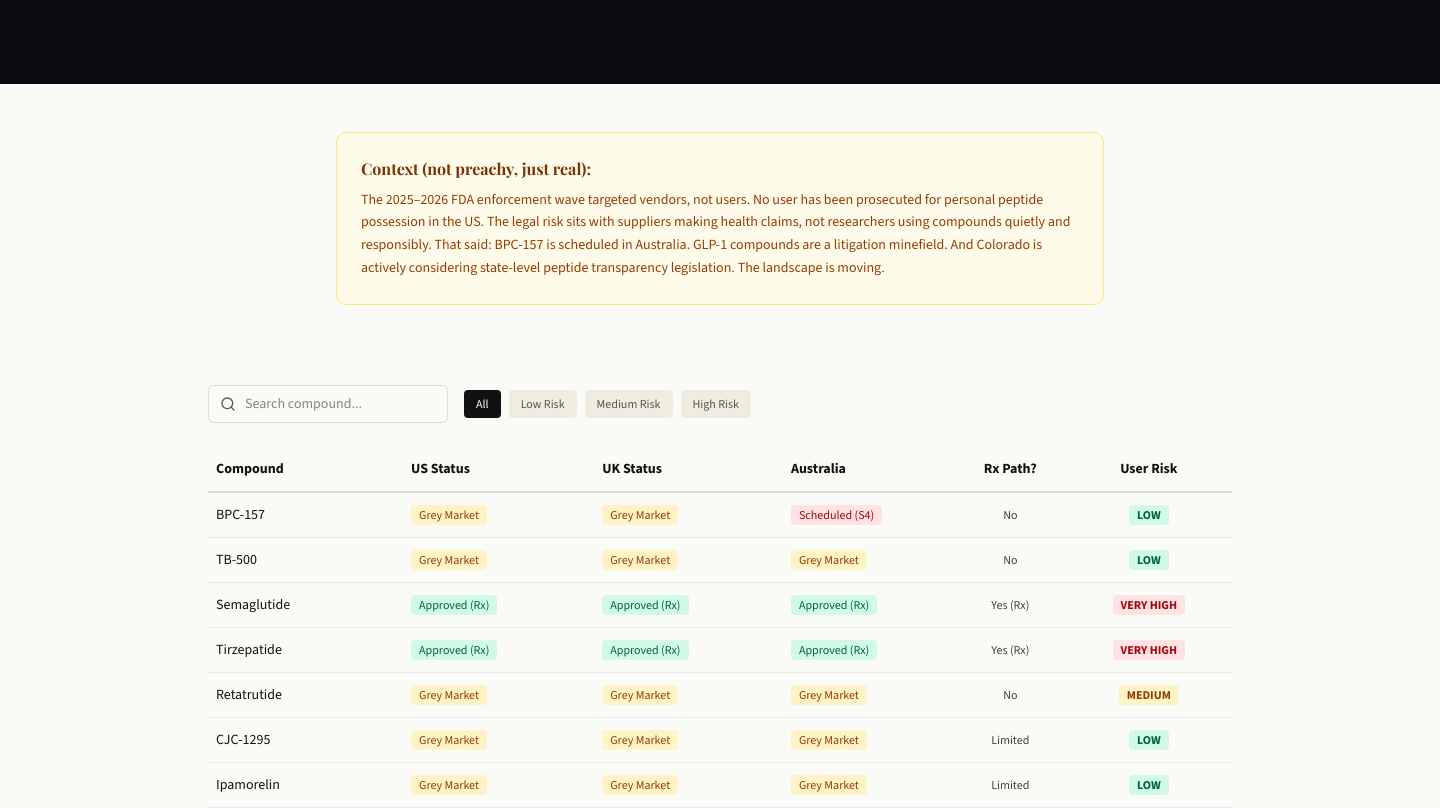
Test: /whats-legal › filters by risk and by search, and says when nothing matches
(page scrolled)
Click the button "high risk" at (716, 404), box [680,390,751,418]
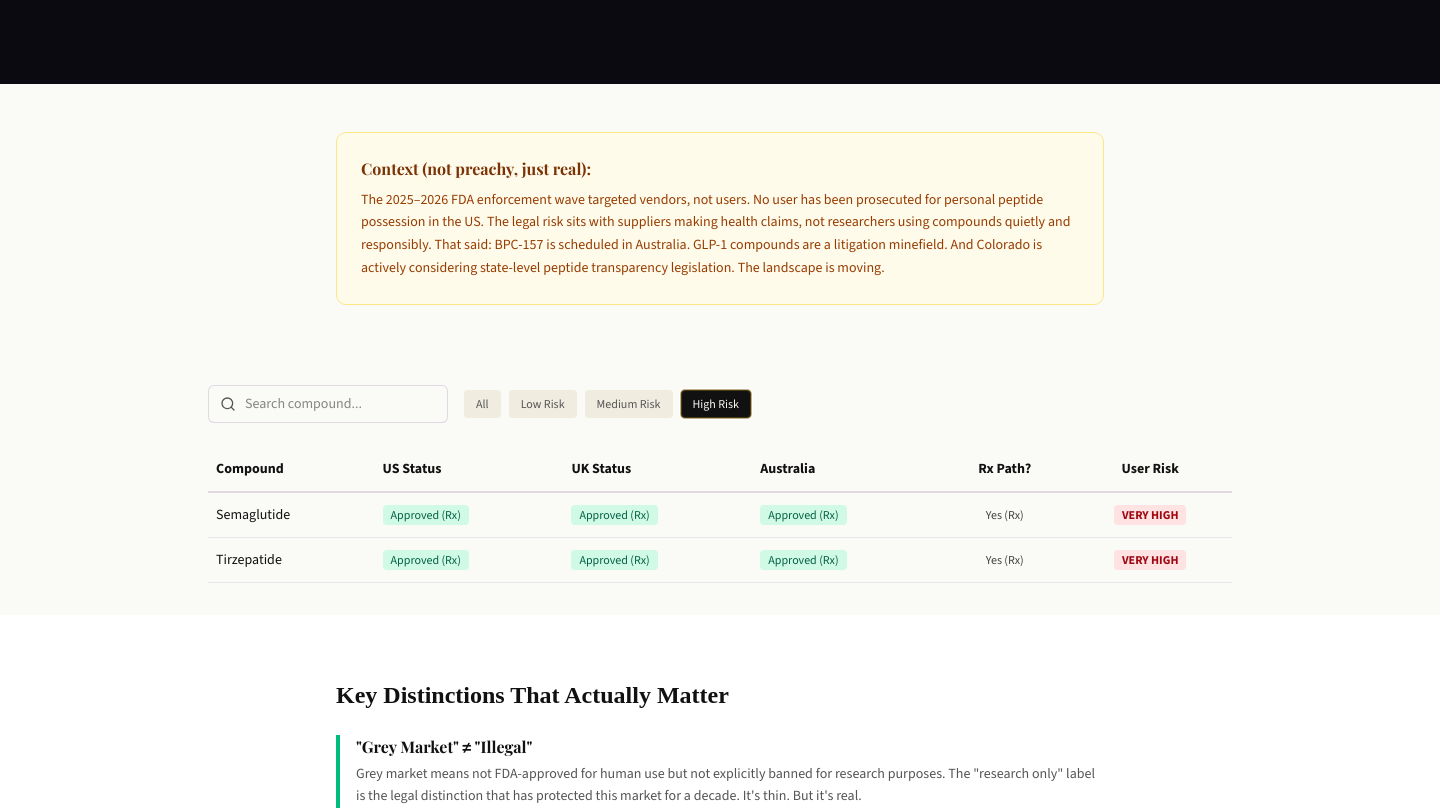
Expected: the text "BPC-157" is not shown
Click the button "All" at (482, 404), box [464,390,501,418]
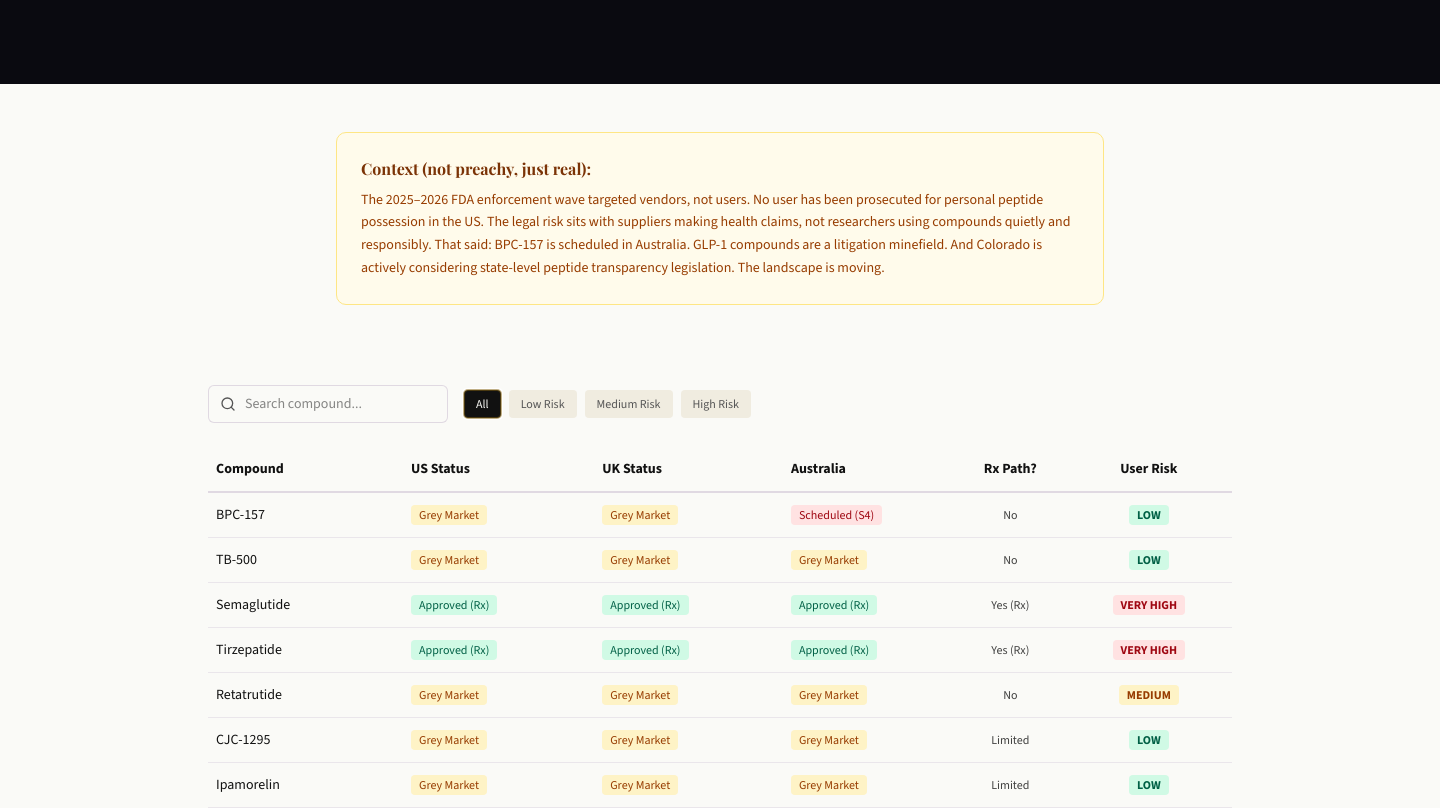
Type "sema" into the field with placeholder "Search compound..." at (328, 404), box [208,384,448,422]
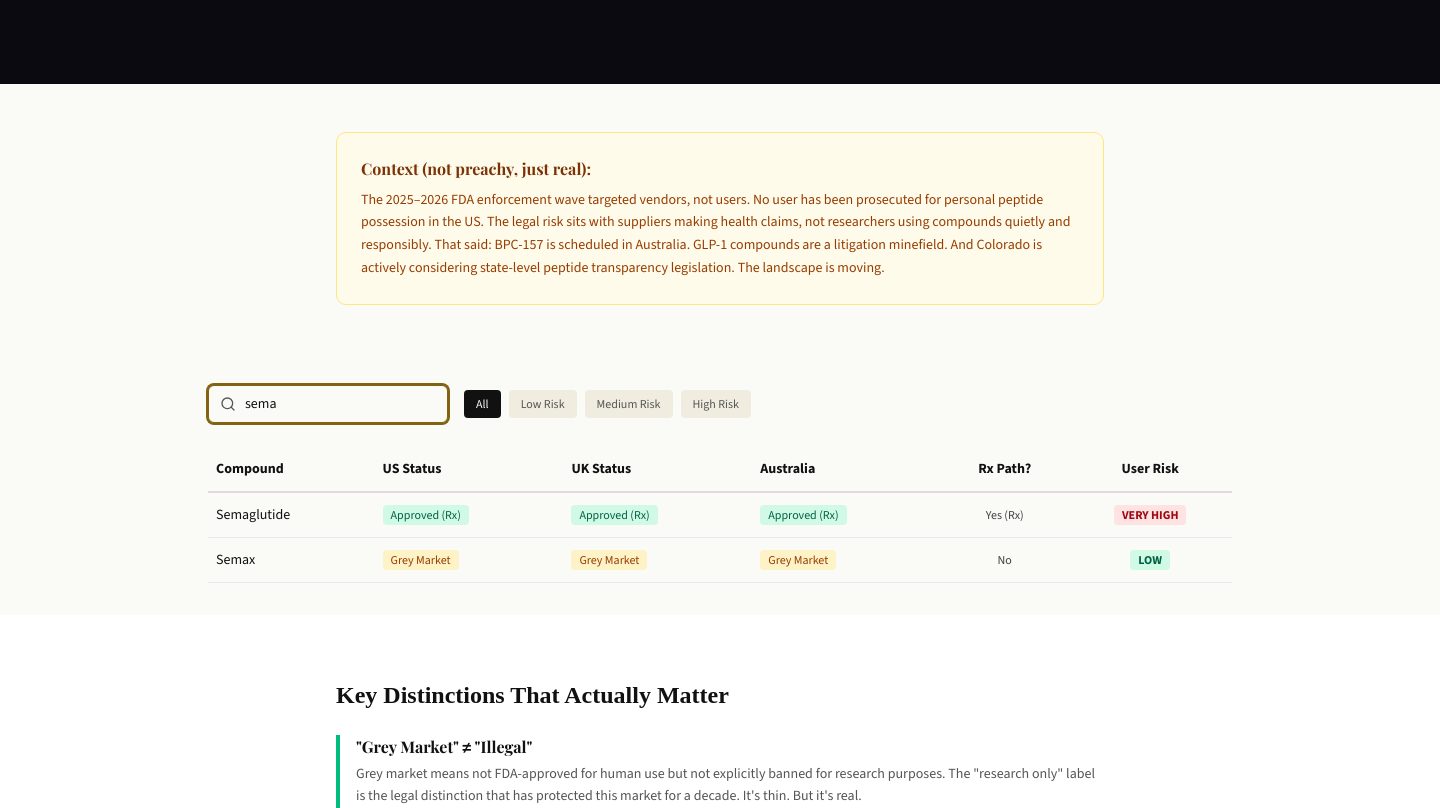
Type "zzz" into the field with placeholder "Search compound..." at (328, 404), box [208,384,448,422]
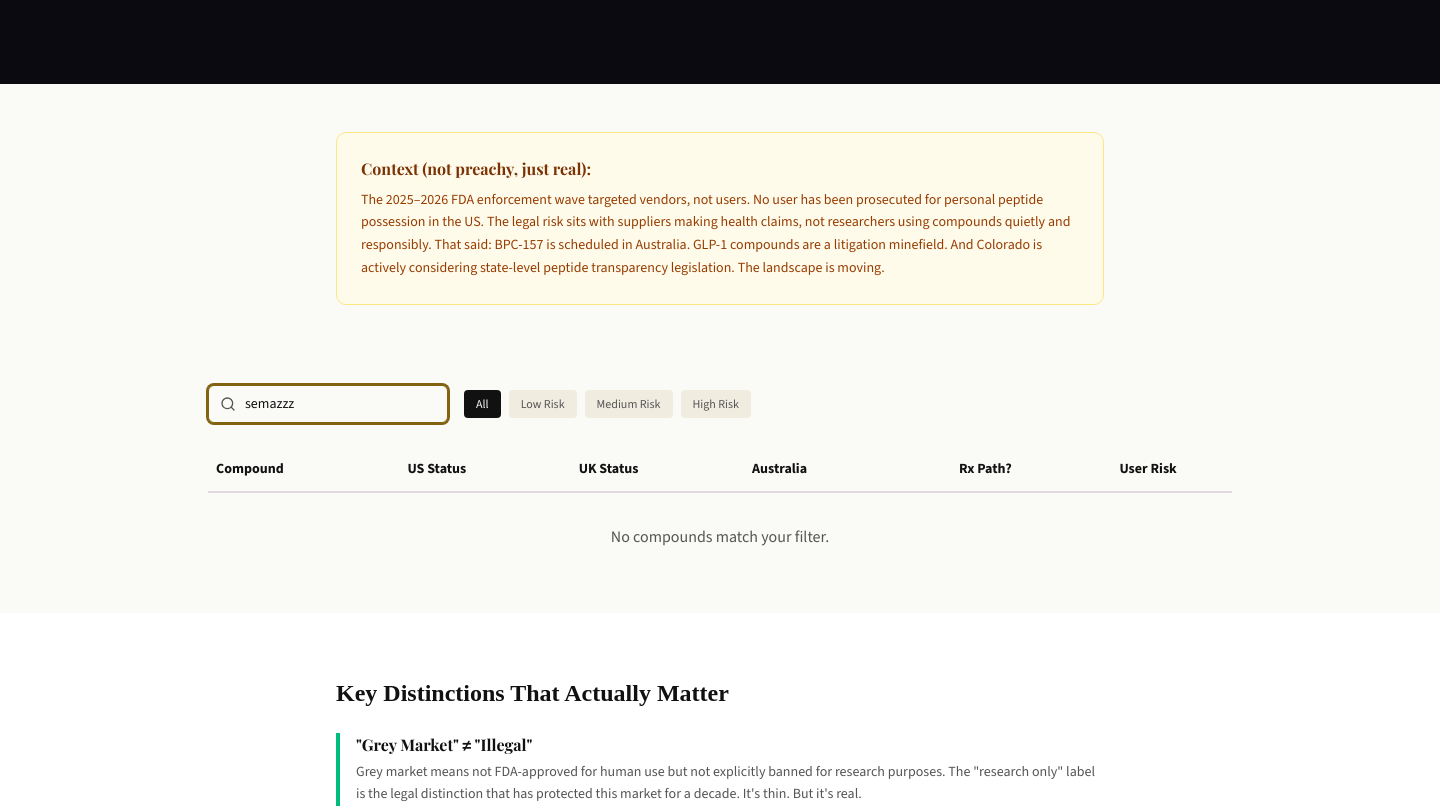
Result: the text "No compounds match your filter." is shown at [611,526,829,546]
